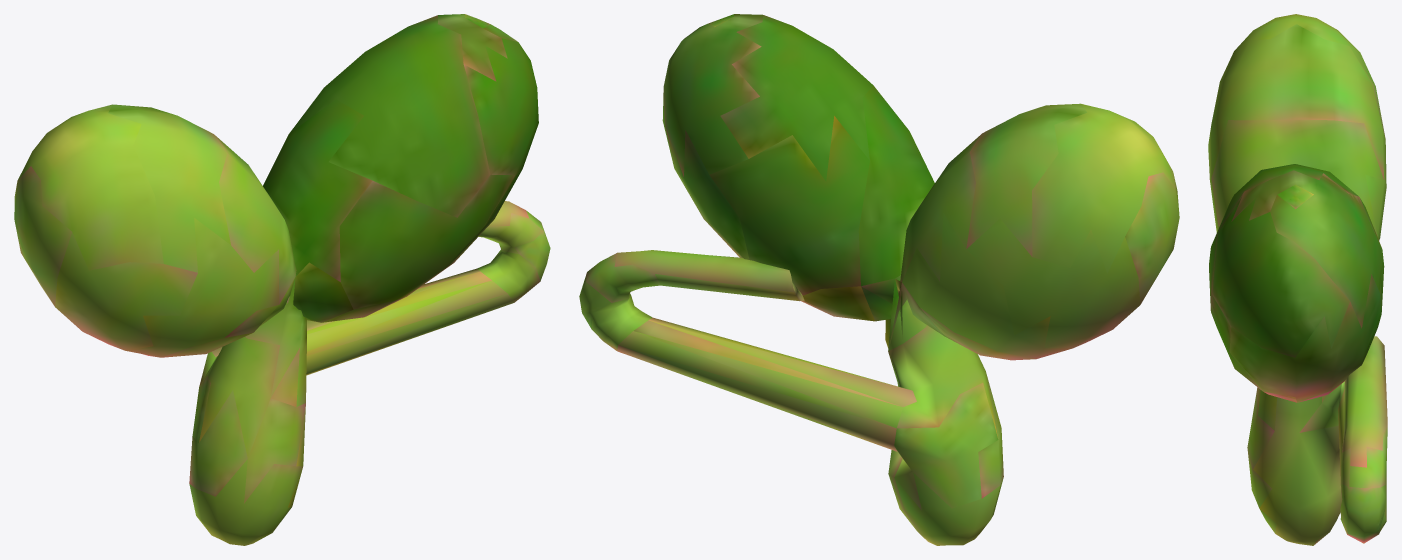
File: hat_sprout.glb
3 renders of one model, left to right at view 1: azimuth 30°, elevation 25°; view 2: azimuth 150°, elevation 25°; view 3: azimuth 270°, elevation 25°, orthographic. The views are drawn at different scales.
Bounding box in the file's own units: 0.3583 × 0.2921 × 0.103.
1 material, 1 textured.
